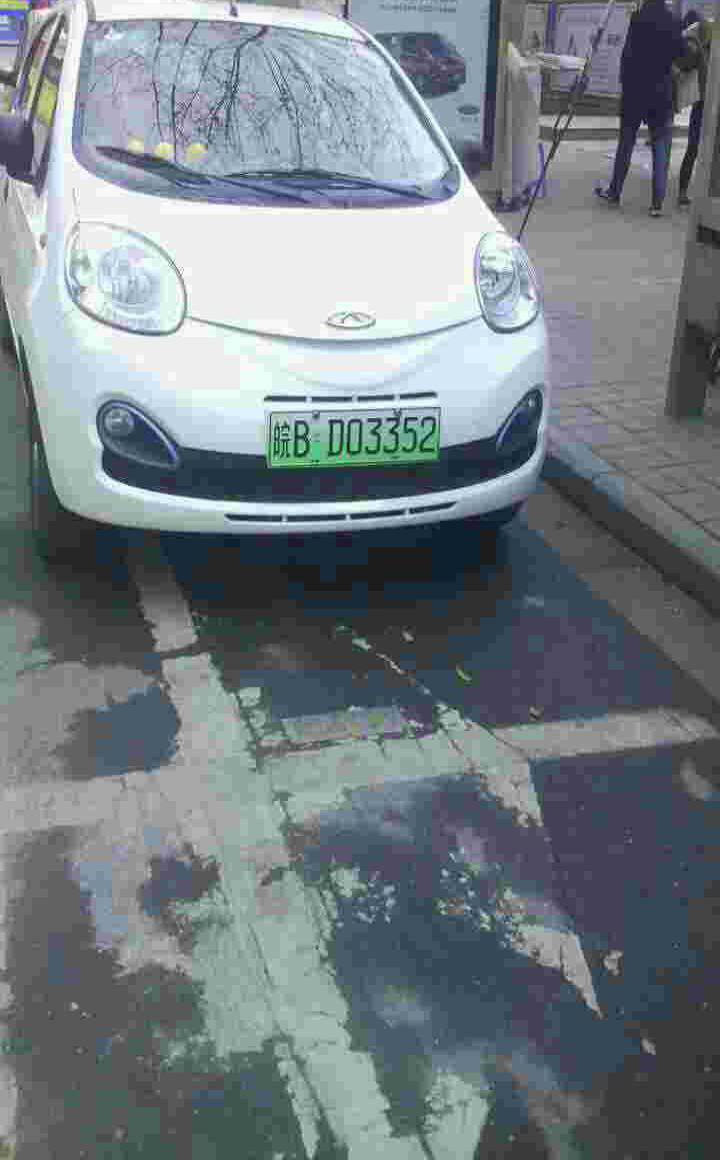car: (258, 406, 448, 470)
